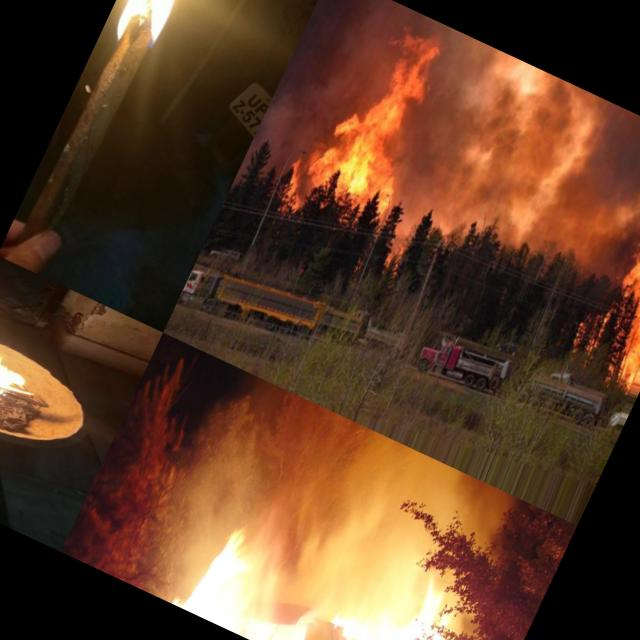fire: (170, 486, 504, 640), (294, 18, 456, 212), (573, 231, 640, 396), (101, 0, 221, 58), (0, 341, 31, 415)
smoke: (160, 354, 472, 579), (383, 28, 640, 282), (283, 0, 417, 117)
